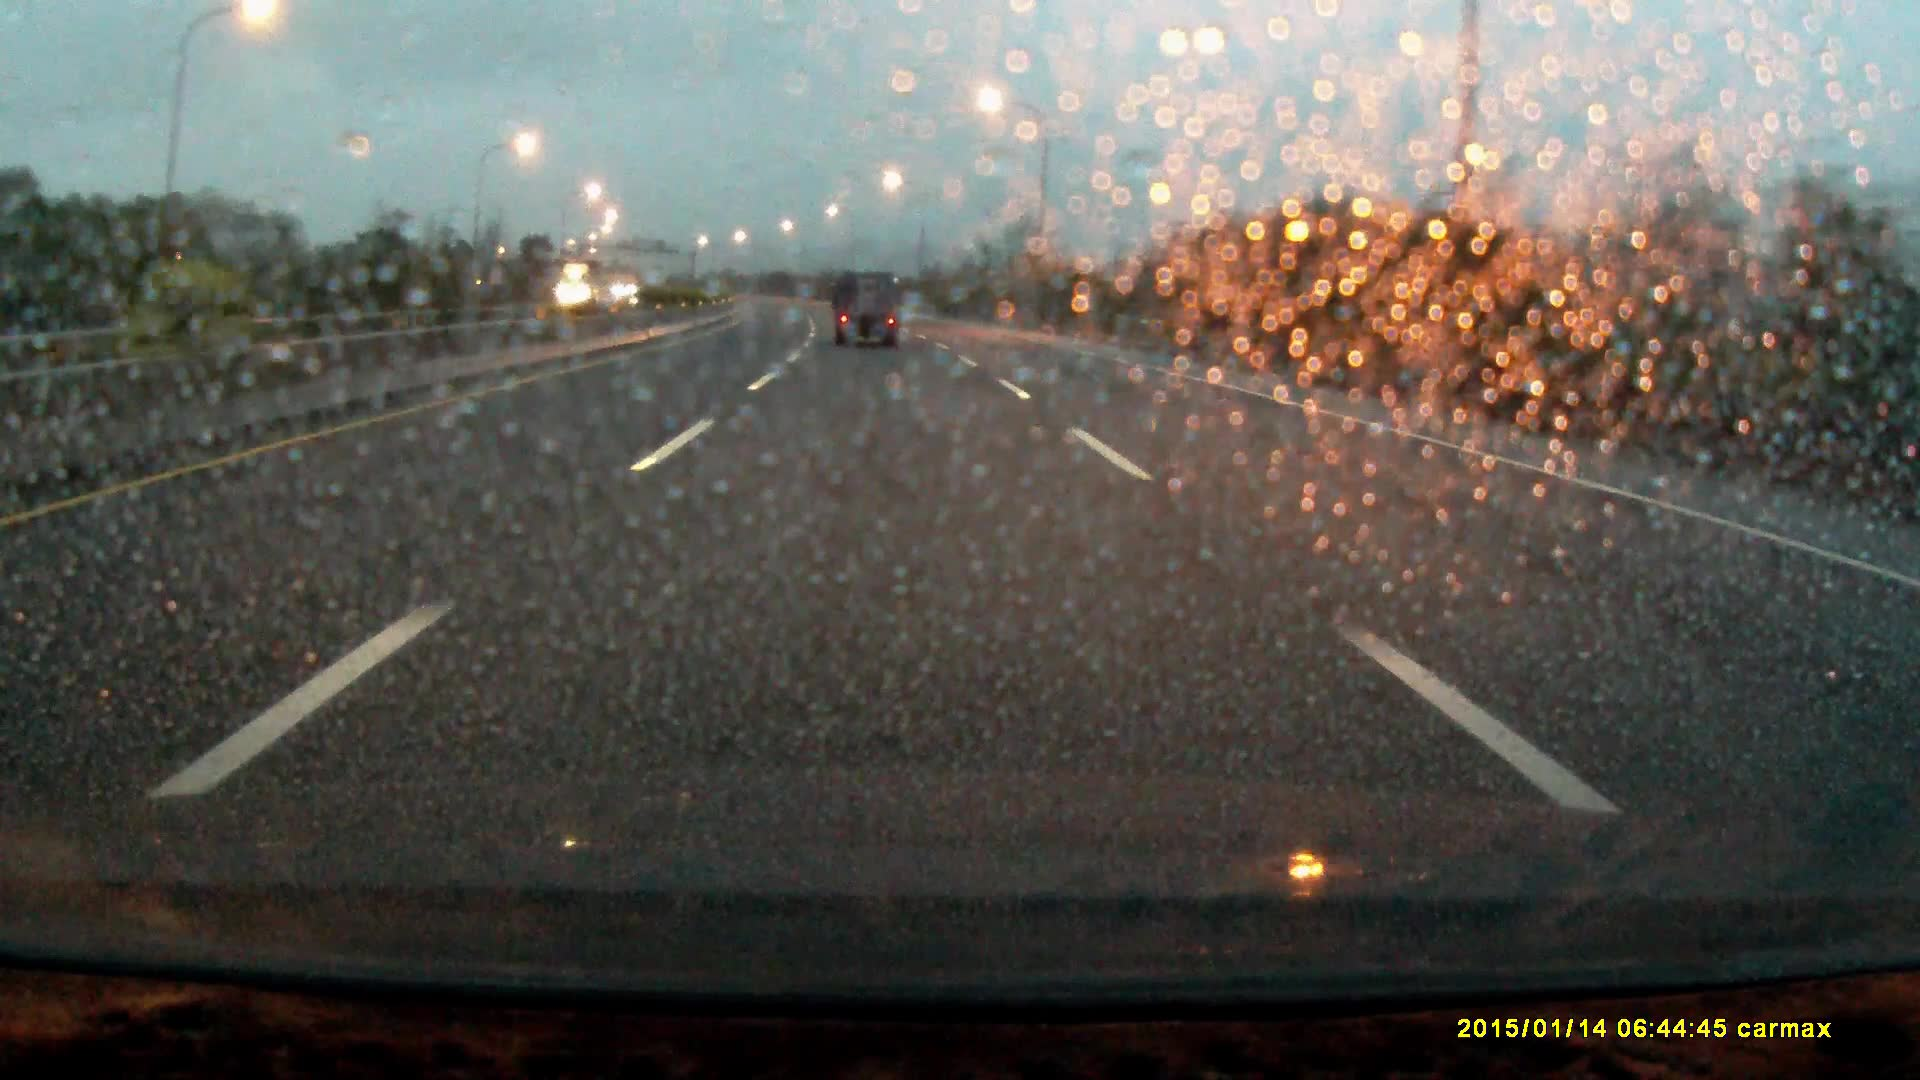vehicle: (832, 274, 902, 353), (560, 266, 629, 320)
